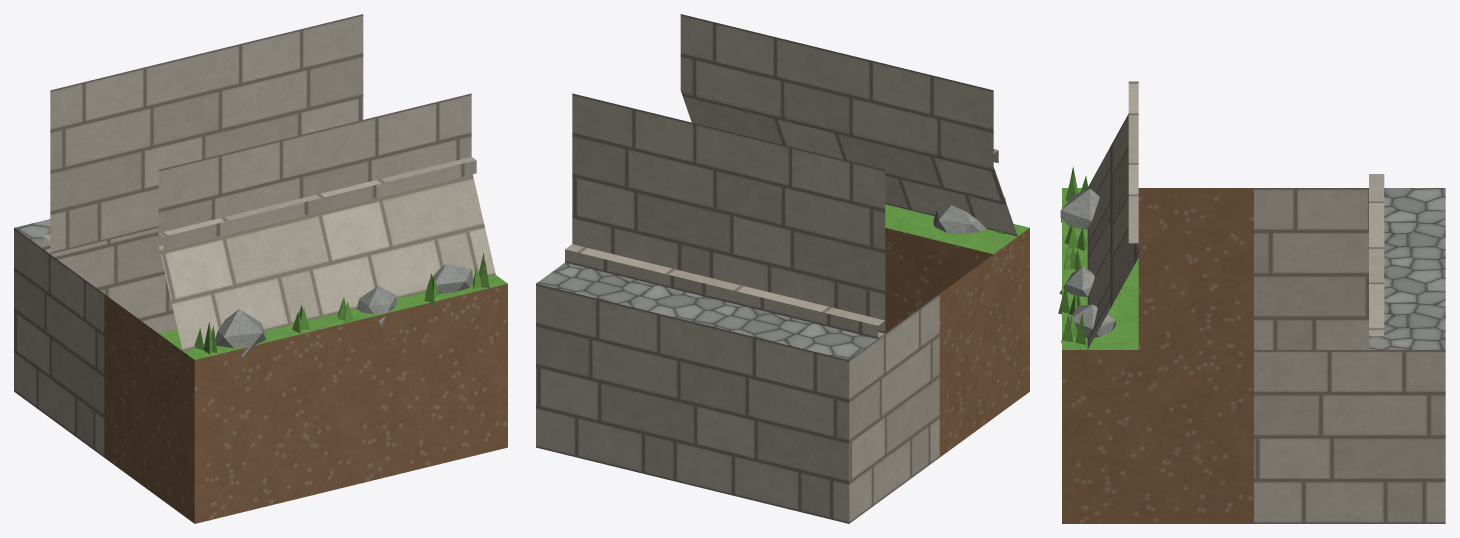
Rendered from Wall_Base.fbx.
The picture shows the model from 3 angles, left to right: view 1: azimuth 30°, elevation 25°; view 2: azimuth 150°, elevation 25°; view 3: azimuth 270°, elevation 25°; orthographic projection. The views are drawn at different scales.
Visible parts, largest first — view 1: Wall_Base; view 2: Wall_Base; view 3: Wall_Base.
Part boxes in pixels (x1,y1,x2,y2): Wall_Base: (14, 14, 507, 523); Wall_Base: (536, 14, 1029, 523); Wall_Base: (1058, 81, 1445, 523).
Size of the model in its own units: 3 by 3 by 3.03.
Materials: 5 (5 with a texture image).
